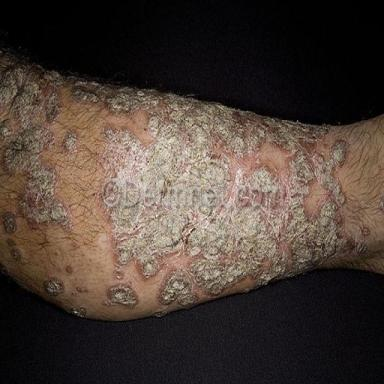Psoriasis: (0, 62, 372, 316), (43, 276, 64, 298), (7, 239, 20, 259), (64, 132, 77, 151), (67, 307, 86, 317)
